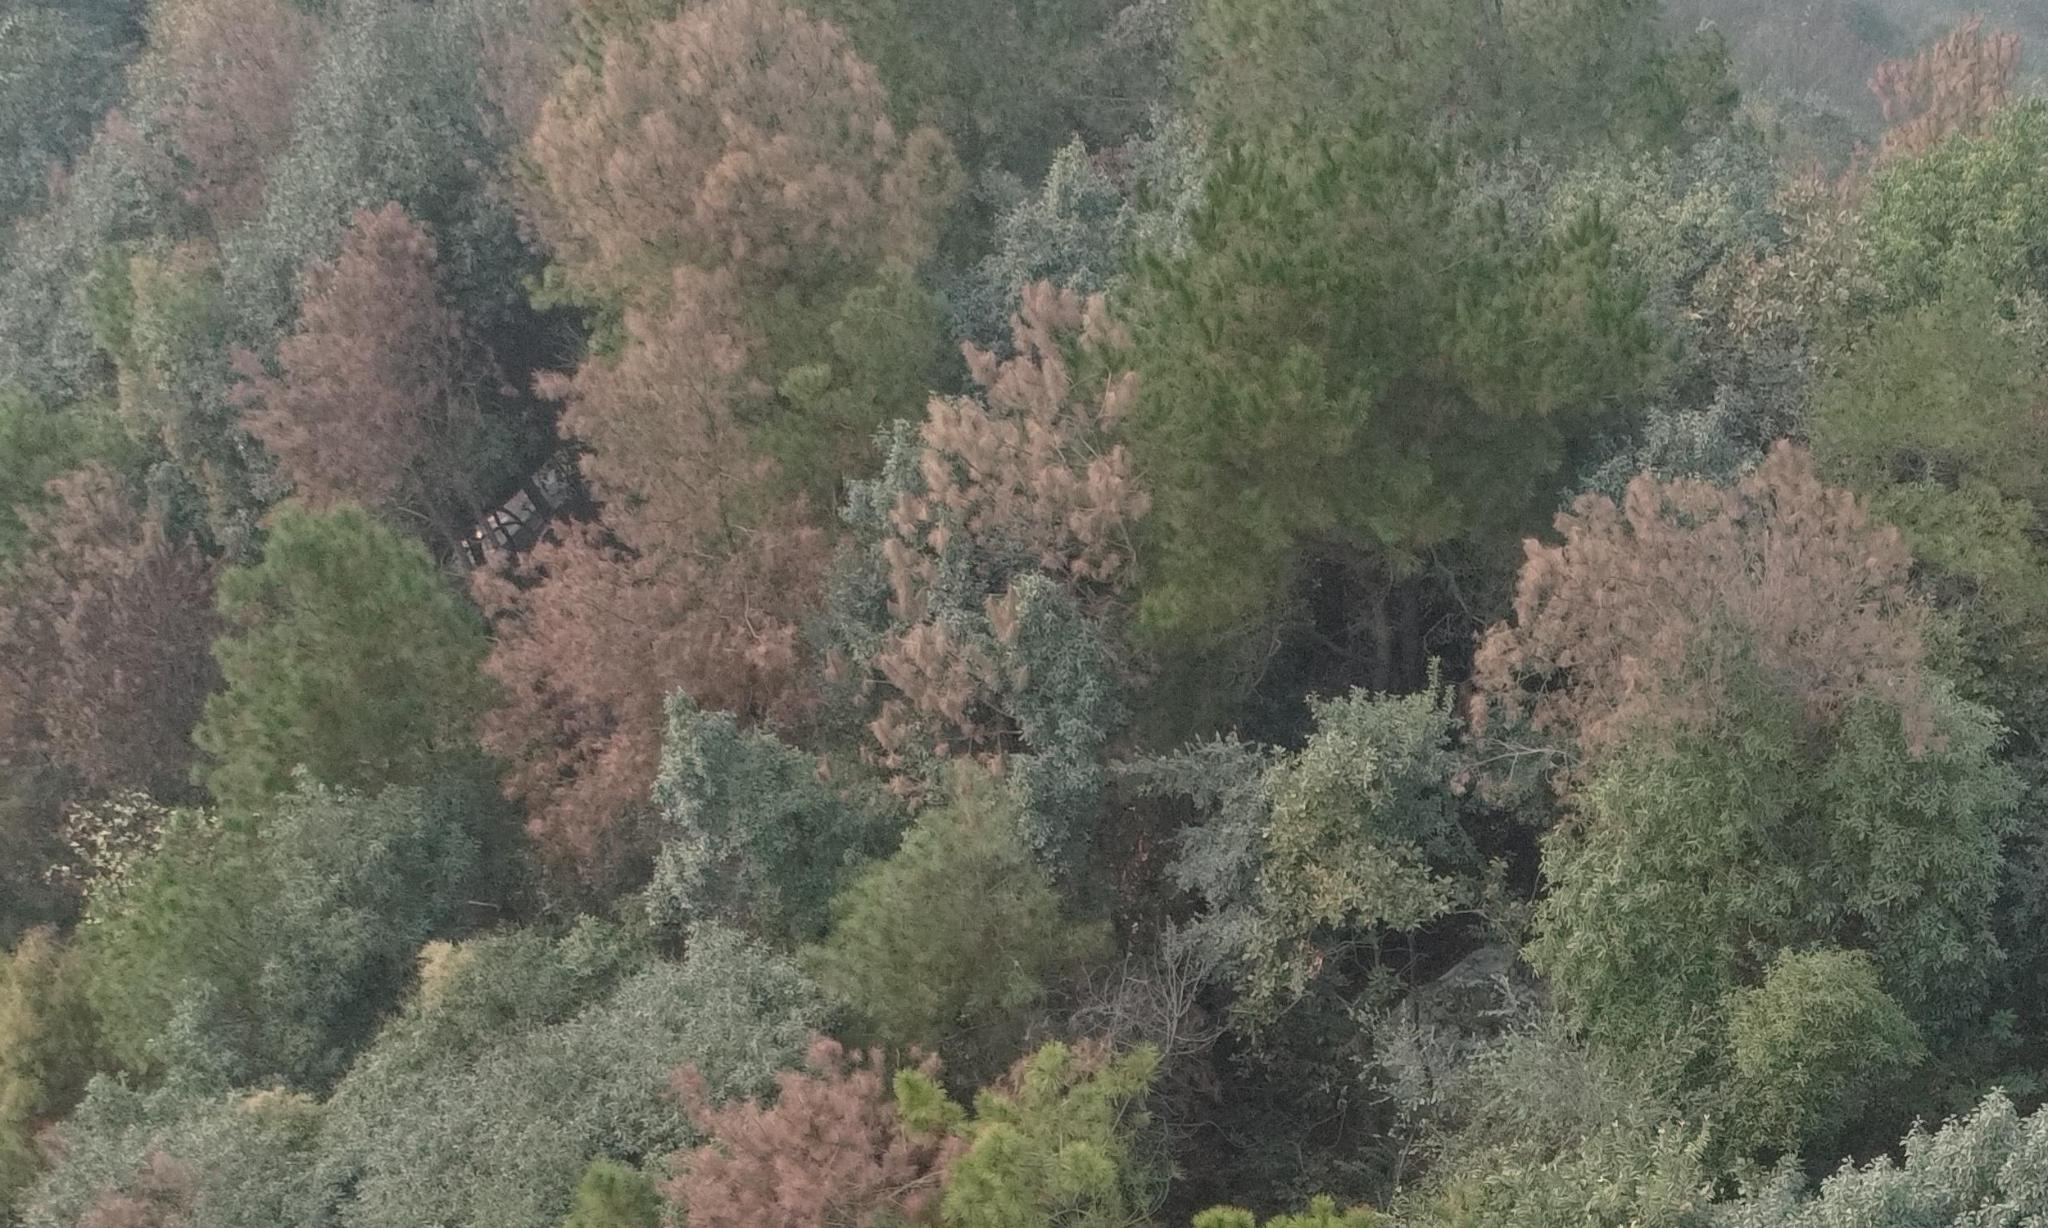heavy: (458, 500, 941, 884), (487, 7, 984, 342), (1446, 471, 1965, 789), (589, 1017, 1036, 1228), (206, 184, 446, 532), (937, 263, 1159, 620)
